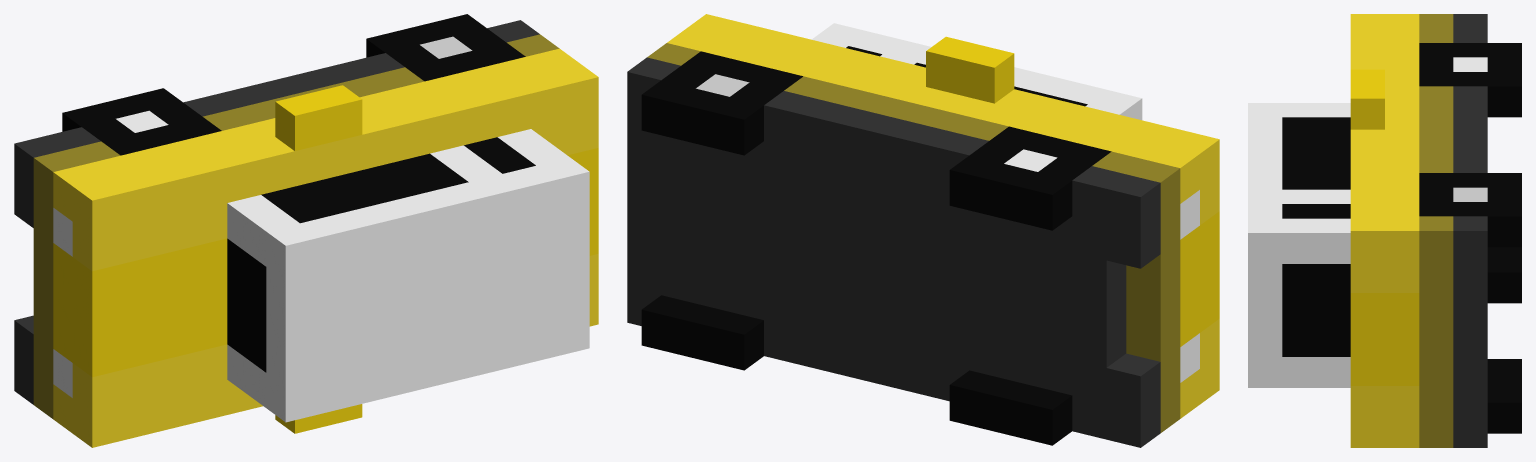
File: VoxelCarB.obj
3 renders of one model, left to right at view 1: azimuth 30°, elevation 25°; view 2: azimuth 150°, elevation 25°; view 3: azimuth 270°, elevation 25°, orthographic. The views are drawn at different scales.
Visible parts, largest first — view 1: VoxelCar_B; view 2: VoxelCar_B; view 3: VoxelCar_B.
Part boxes in pixels (left/top/right/bottom): VoxelCar_B: left=14, top=14, right=598, bottom=447; VoxelCar_B: left=627, top=14, right=1219, bottom=447; VoxelCar_B: left=1248, top=14, right=1521, bottom=447.
Size of the model in its own units: 1.96 by 1.18 by 1.05.
